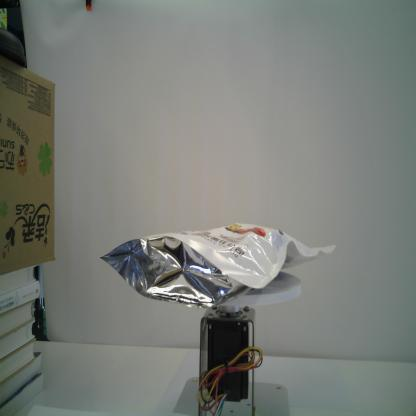Dried Food: (98, 216, 338, 312)
